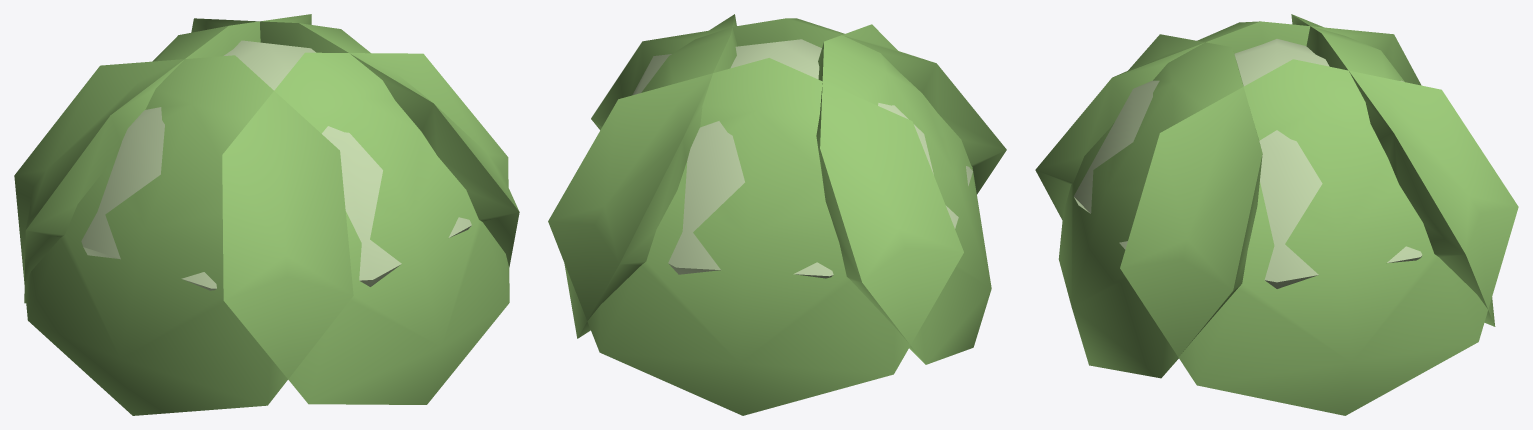
File: kr_lettuce.glb
3 views of the same model, side by side, from view 1: azimuth 30°, elevation 25°; view 2: azimuth 150°, elevation 25°; view 3: azimuth 270°, elevation 25° (orthographic). The views are drawn at different scales.
Parts seen in each view (by area): view 1: vc_m0_r4; view 2: vc_m0_r4; view 3: vc_m0_r4.
Boxes of the visible parts, box(x1,y1,x2,y2) form: vc_m0_r4: box(14, 14, 519, 415); vc_m0_r4: box(548, 14, 1006, 415); vc_m0_r4: box(1035, 14, 1518, 415).
Size of the model in its own units: 0.2734 by 0.1924 by 0.2734.
